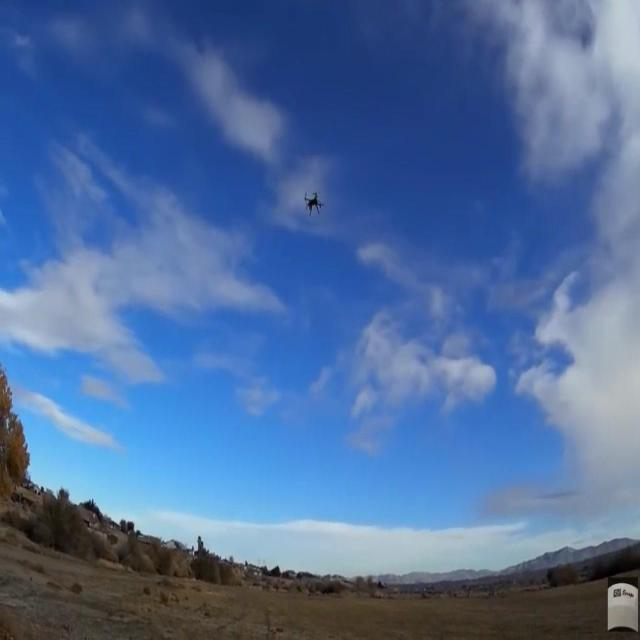drone: (302, 190, 324, 220)
